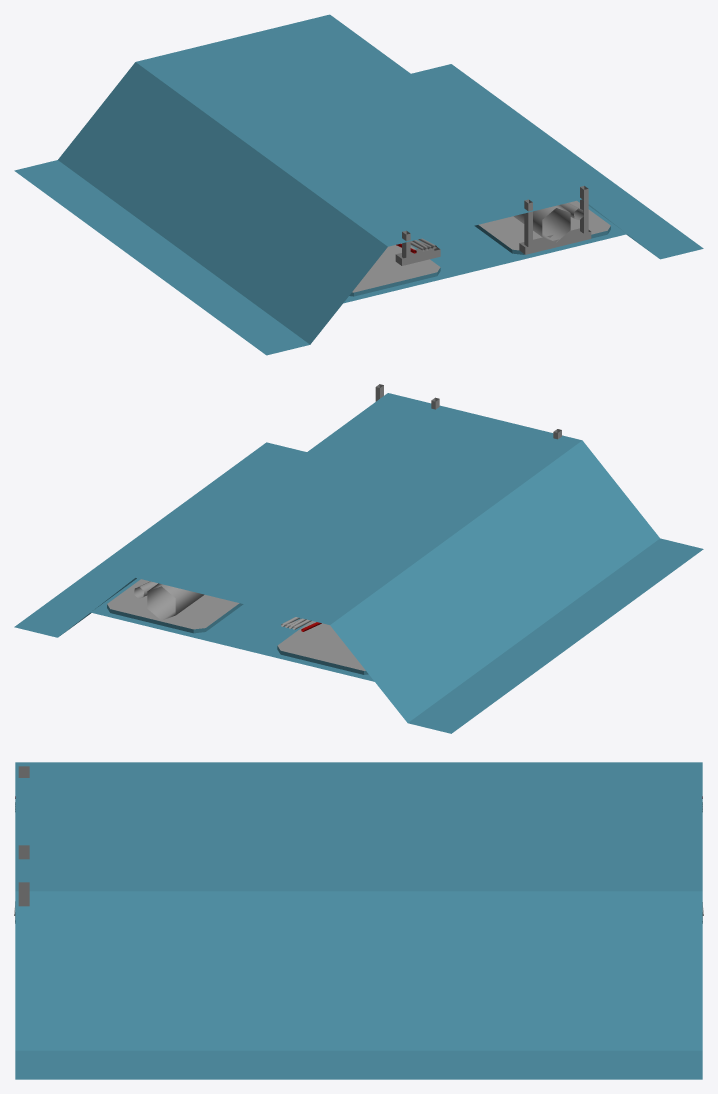
File: way top lod0.FBX
3 renders of one model, top to bottom at view 1: azimuth 30°, elevation 25°; view 2: azimuth 150°, elevation 25°; view 3: azimuth 270°, elevation 25°, orthographic. The views are drawn at different scales.
Parts seen in each view (by area): view 1: Group076, cable other, cable lght; view 2: Group076, cable other; view 3: Group076, cable other.
Part boxes in pixels (left/top/right/bottom): Group076: left=14, top=14, right=703, bottom=355; cable other: left=513, top=186, right=591, bottom=254; cable lght: left=395, top=230, right=440, bottom=265; Group076: left=14, top=393, right=703, bottom=733; cable other: left=134, top=384, right=439, bottom=620; Group076: left=15, top=762, right=702, bottom=1079; cable other: left=14, top=845, right=703, bottom=923.
Bounding box in the file's own units: 4 × 0.7602 × 4.01.
